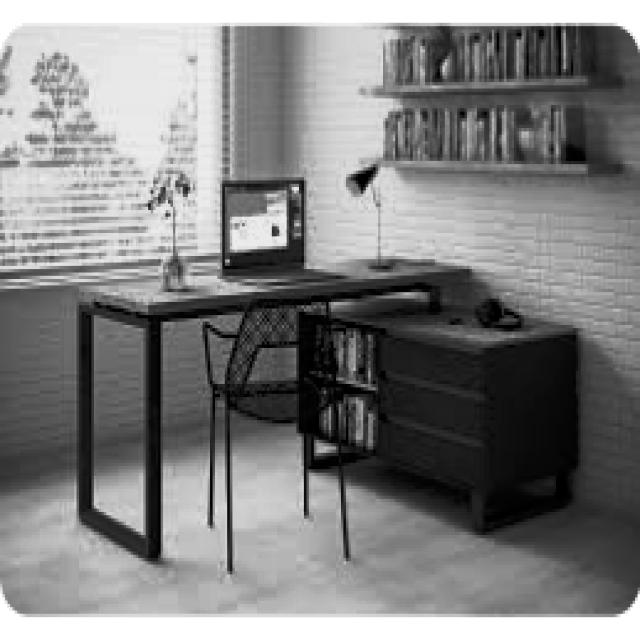book: (200, 295, 349, 571)
table: (74, 256, 470, 561)
